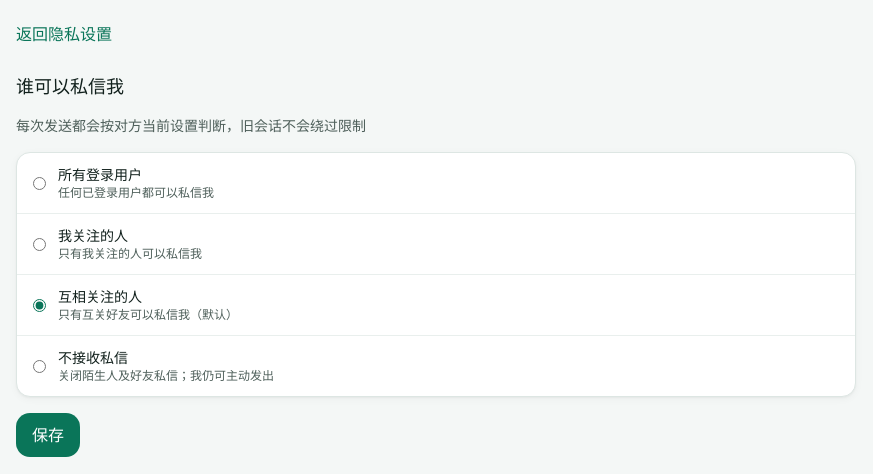
Test: DM privacy request ordering › prevents concurrent saves and editing until the accepted policy is known
Click the radio button labelled "不接收私信 关闭陌生人及好友私信；我仍可主动发出": (40, 366) [33,360,46,372]
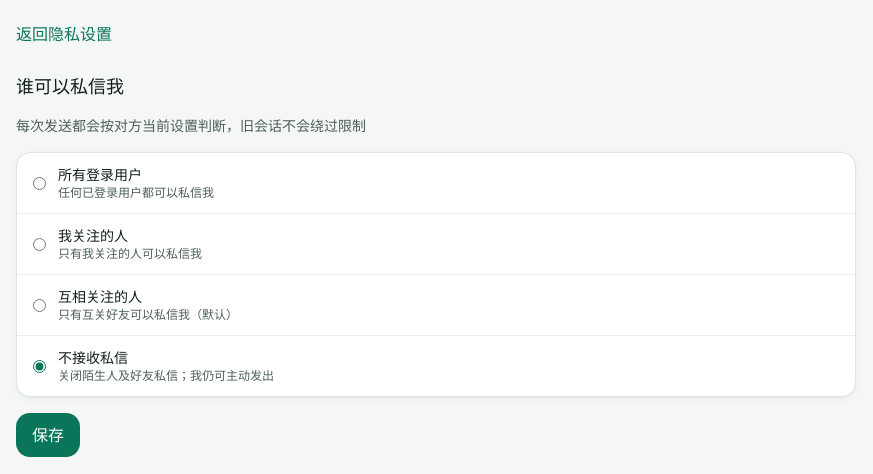
Click the button "保存": (48, 435) [16,413,80,457]
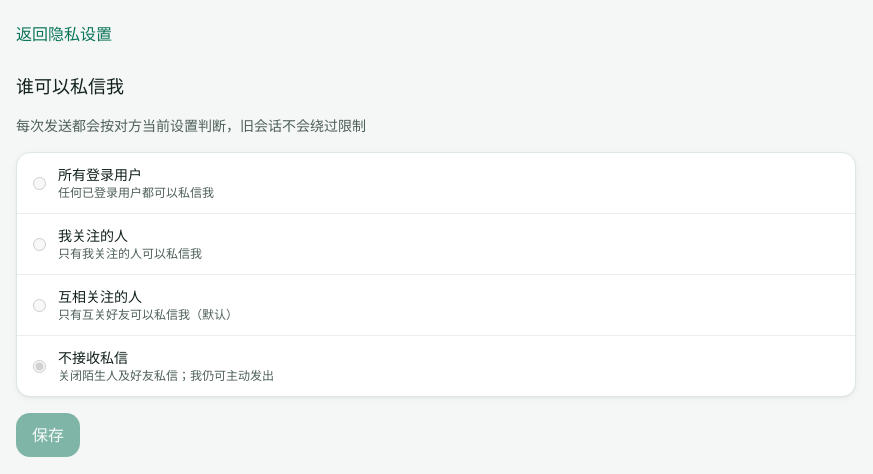
Click the button "保存": (48, 435) [16,413,80,457]
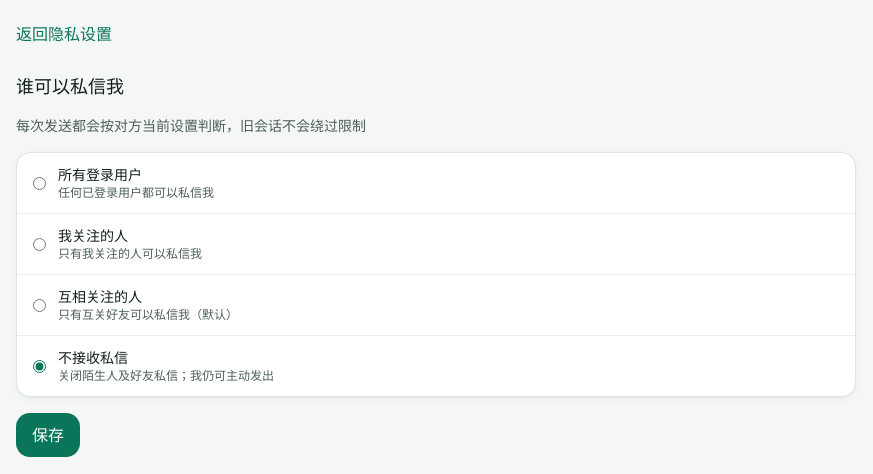
Check: the button "保存" is enabled, box [16,413,80,457]
